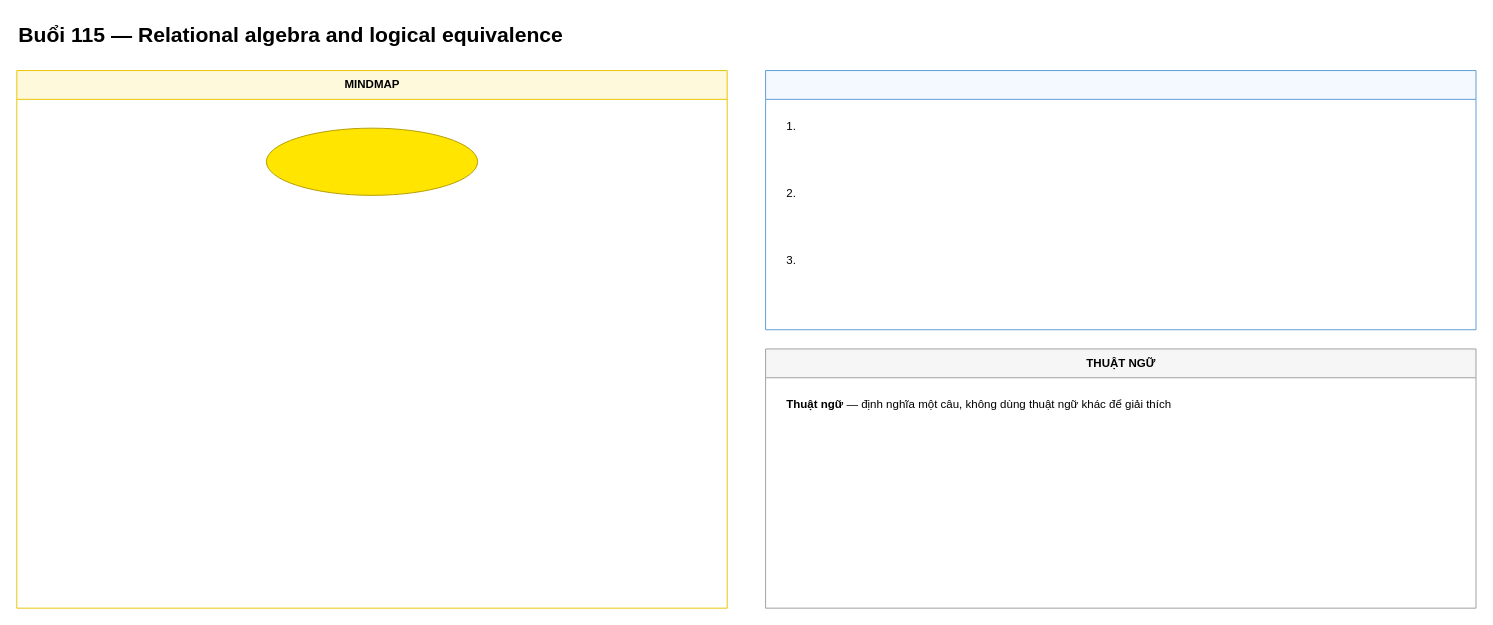
Image size: 1493x625. Some labels were removed from this diagram. Each missing label, with the box of its shape:
KEY TAKEAWAY — ba điều phải nhớ: (765, 70, 1476, 330)
Relational algebra and logical equivalence: (265, 127, 478, 195)
